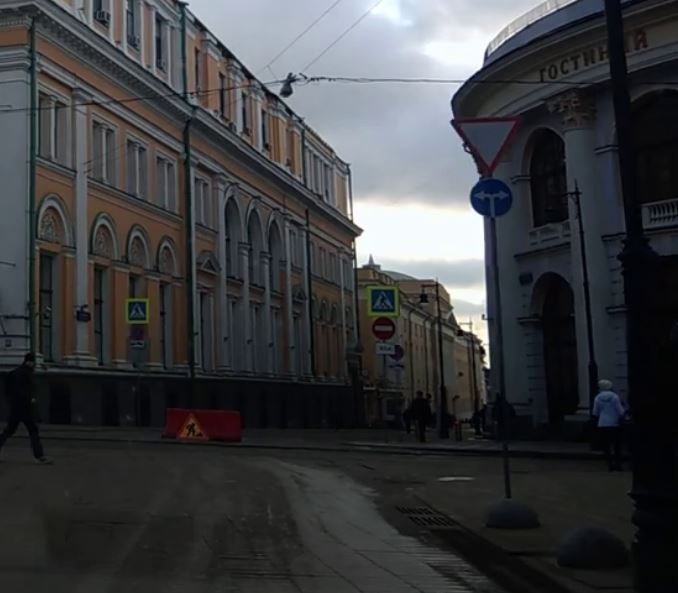Yol Ver: (441, 110, 539, 179)
